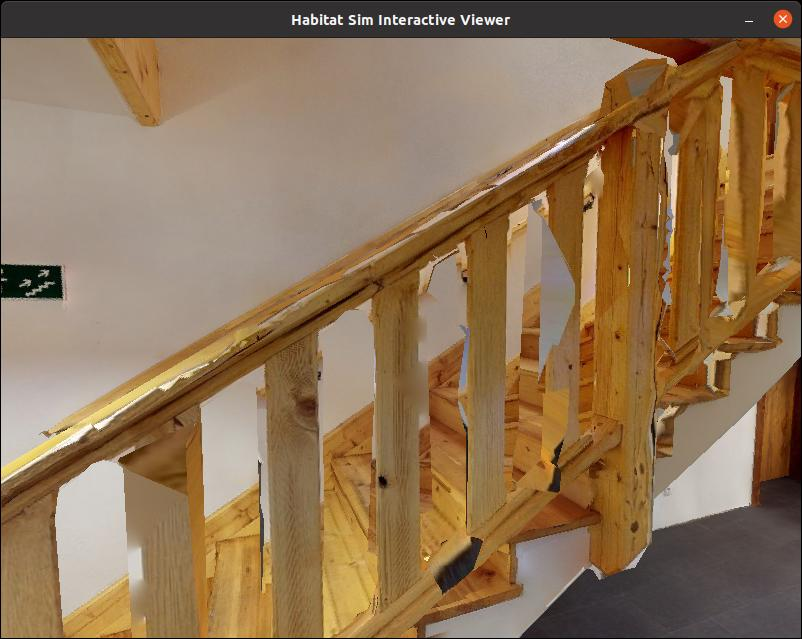stairs: (0, 46, 802, 633)
